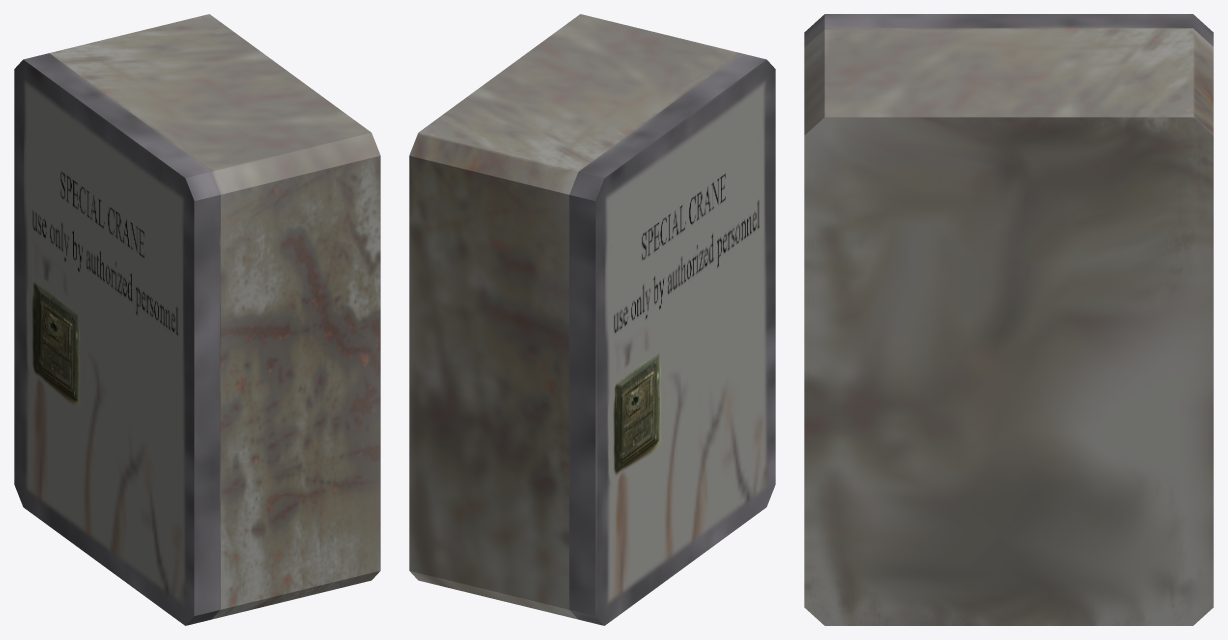
File: TrainAssembleBox.fbx
3 views of the same model, side by side, from view 1: azimuth 30°, elevation 25°; view 2: azimuth 150°, elevation 25°; view 3: azimuth 270°, elevation 25° (orthographic). The views are drawn at different scales.
Parts seen in each view (by area): view 1: AssembleBox00, AssembleBox00.001; view 2: AssembleBox00, AssembleBox00.001; view 3: AssembleBox00, AssembleBox00.001.
Part boxes in pixels (x1,y1,x2,y2): AssembleBox00: (49, 14, 380, 619); AssembleBox00.001: (14, 53, 220, 625); AssembleBox00: (409, 14, 740, 619); AssembleBox00.001: (569, 53, 775, 625); AssembleBox00: (804, 28, 1213, 625); AssembleBox00.001: (804, 14, 1213, 46).
Size of the model in its own units: 78.62 by 181 by 132.
